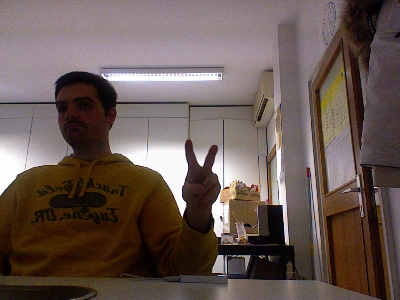剪刀: (179, 138, 221, 208)
